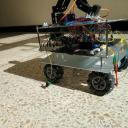cart: (36, 19, 128, 96)
